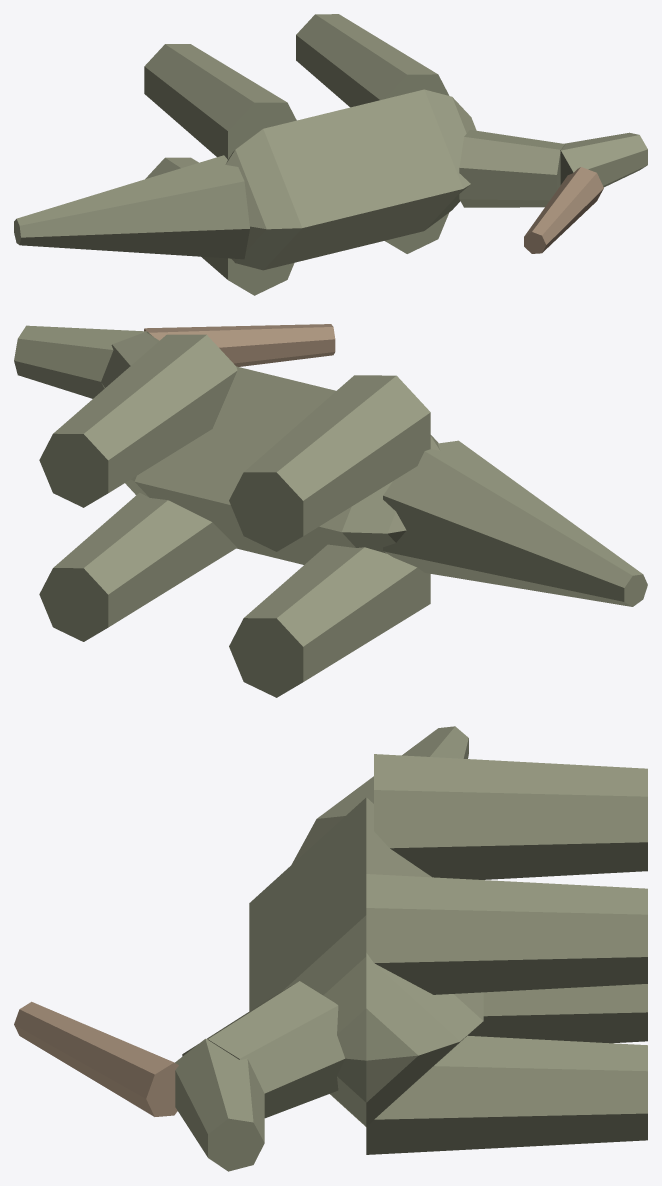
The picture shows the model from 3 angles, top to bottom: view 1: azimuth 30°, elevation 25°; view 2: azimuth 150°, elevation 25°; view 3: azimuth 270°, elevation 25°; orthographic projection. The views are drawn at different scales.
Visible parts, largest first — view 1: part0, part4, part7, part5, part1, part2, part3, part8, part6; view 2: part4, part7, part5, part0, part8, part6, part2, part3, part1; view 3: part0, part7, part5, part6, part1, part8, part2, part3, part4.
Boxes of the visible parts, x1,y1,x2,y2 form: part0: (225,89,476,270); part4: (14,155,249,259); part7: (144,44,296,159); part5: (296,14,449,107); part1: (459,130,565,207); part2: (560,132,647,187); part3: (524,167,603,253); part8: (145,157,294,295); part6: (384,213,448,253); part4: (383,440,647,606); part7: (229,375,430,551); part5: (39,334,237,507); part0: (125,366,439,564); part8: (229,544,430,697); part6: (39,492,237,641); part2: (14,325,153,398); part3: (144,324,335,366); part1: (101,332,159,388); part0: (249,797,483,1126); part7: (374,754,647,879); part5: (366,874,647,994); part6: (366,1035,647,1154); part1: (182,981,345,1118); part8: (468,984,647,1043); part2: (175,1038,264,1171); part3: (14,1001,178,1116); part4: (291,726,468,864).
Size of the model in its own units: 5.1 by 1.7 by 3.38.
